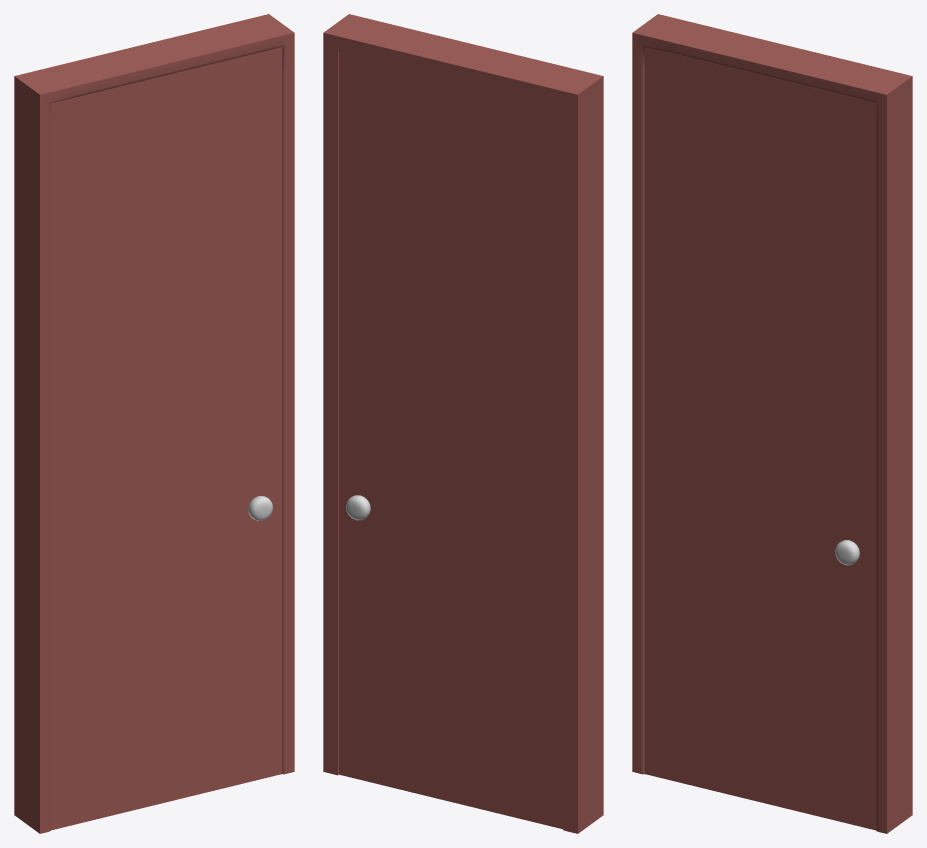
Rendered from door.glb.
3 views of the same model, side by side, from view 1: azimuth 30°, elevation 25°; view 2: azimuth 150°, elevation 25°; view 3: azimuth 330°, elevation 25° (orthographic).
Parts seen in each view (by area): view 1: SlabDoor32x108, SlabDoorFrame32x108; view 2: SlabDoor32x108, SlabDoorFrame32x108; view 3: SlabDoor32x108, SlabDoorFrame32x108.
Boxes of the visible parts, x1,y1,x2,y2 form: SlabDoor32x108: (50,47,282,830); SlabDoorFrame32x108: (14,14,294,833); SlabDoor32x108: (339,52,563,829); SlabDoorFrame32x108: (323,14,603,833); SlabDoor32x108: (644,47,876,830); SlabDoorFrame32x108: (632,14,912,833).
Bounding box in the file's own units: 88.88 × 247 × 22.96.
